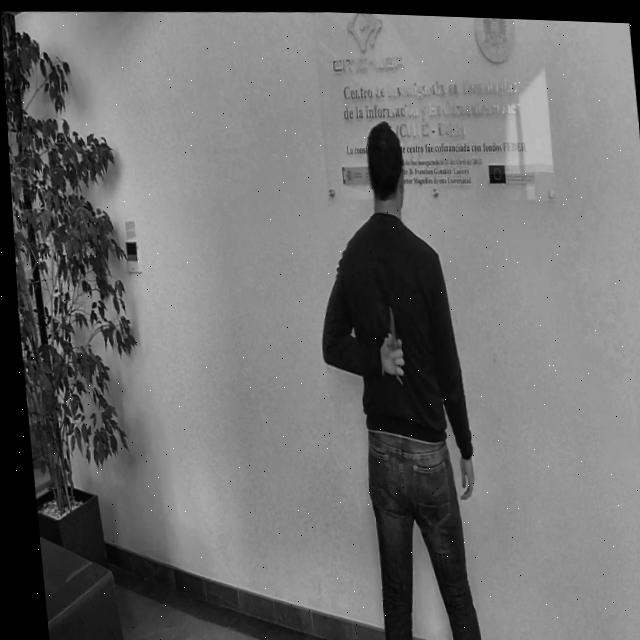knife: (382, 299, 392, 343)
